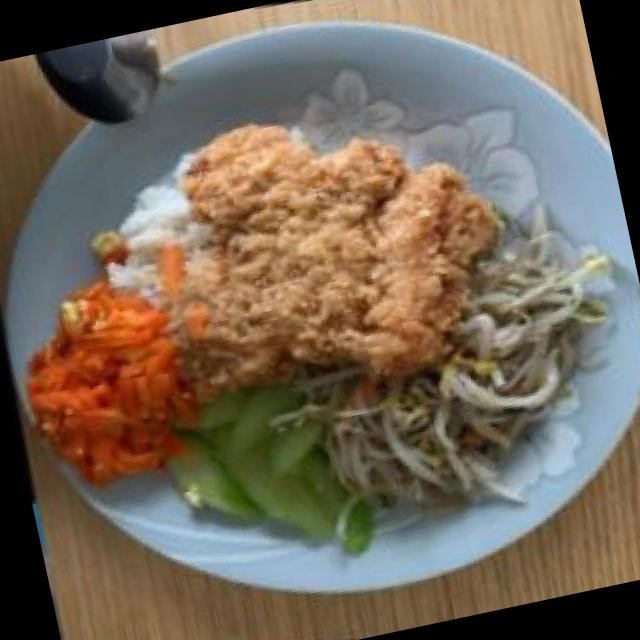carrot_eggs: (1, 274, 208, 507)
fried_chicken: (121, 66, 539, 428)
mung_bean_sprouts: (315, 316, 602, 531)
rice: (100, 169, 226, 303)
